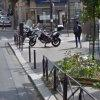Motorcycle: (19, 23, 72, 54)
